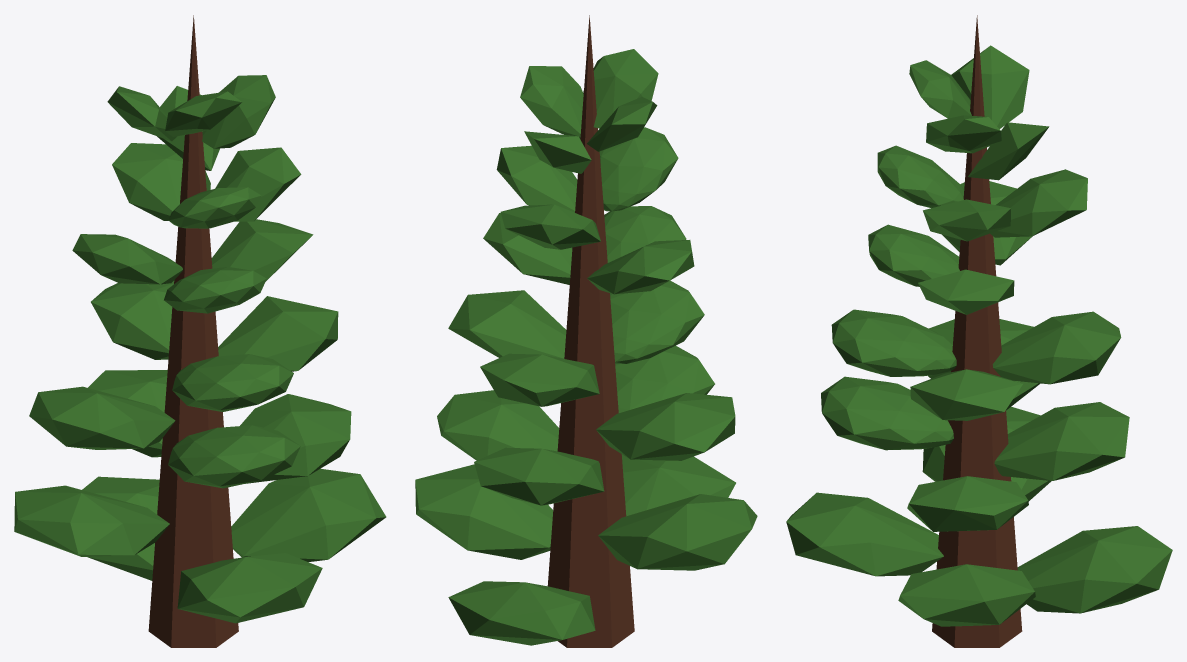
The model's file is Boom_01.fbx.
3 renders of one model, left to right at view 1: azimuth 30°, elevation 25°; view 2: azimuth 150°, elevation 25°; view 3: azimuth 270°, elevation 25°, orthographic.
Parts seen in each view (by area): view 1: Boom_01; view 2: Boom_01; view 3: Boom_01.
Boxes of the visible parts, x1,y1,x2,y2 form: Boom_01: (14, 15, 386, 647); Boom_01: (415, 15, 757, 647); Boom_01: (786, 15, 1172, 647).
Bounding box in the file's own units: 26.51 × 46.05 × 26.13.
